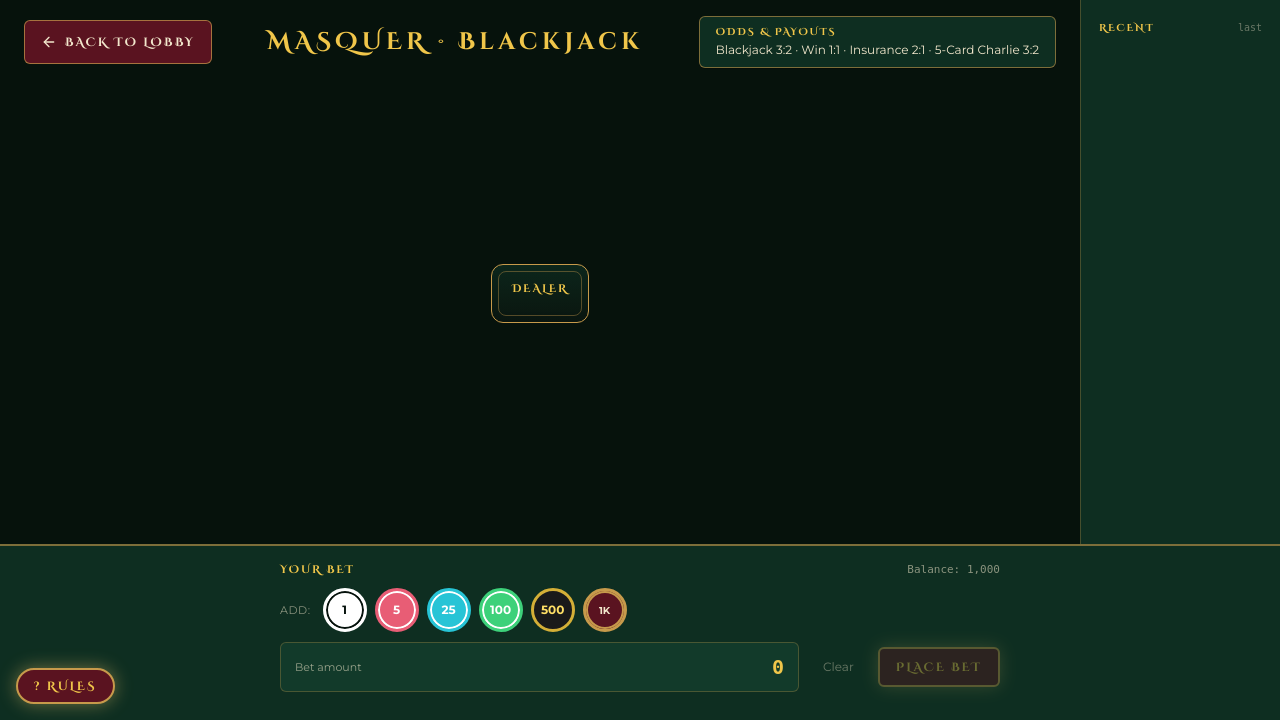
Test: BlackjackPage › declining insurance advances to action panel or settles
The image size is (1280, 720).
Click the button named "Add 25 chips to bet" at (449, 610), box [427,588,471,632]
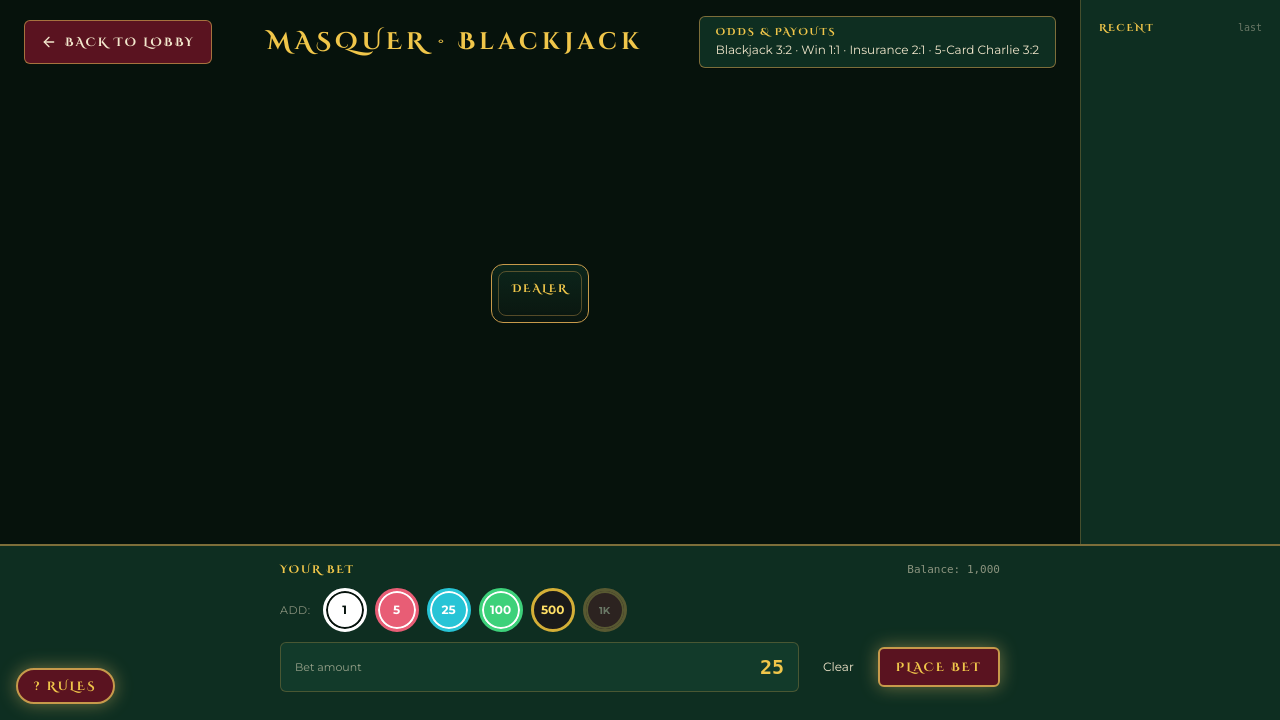
Click the button "PLACE BET" at (939, 667), box [878,647,1000,687]
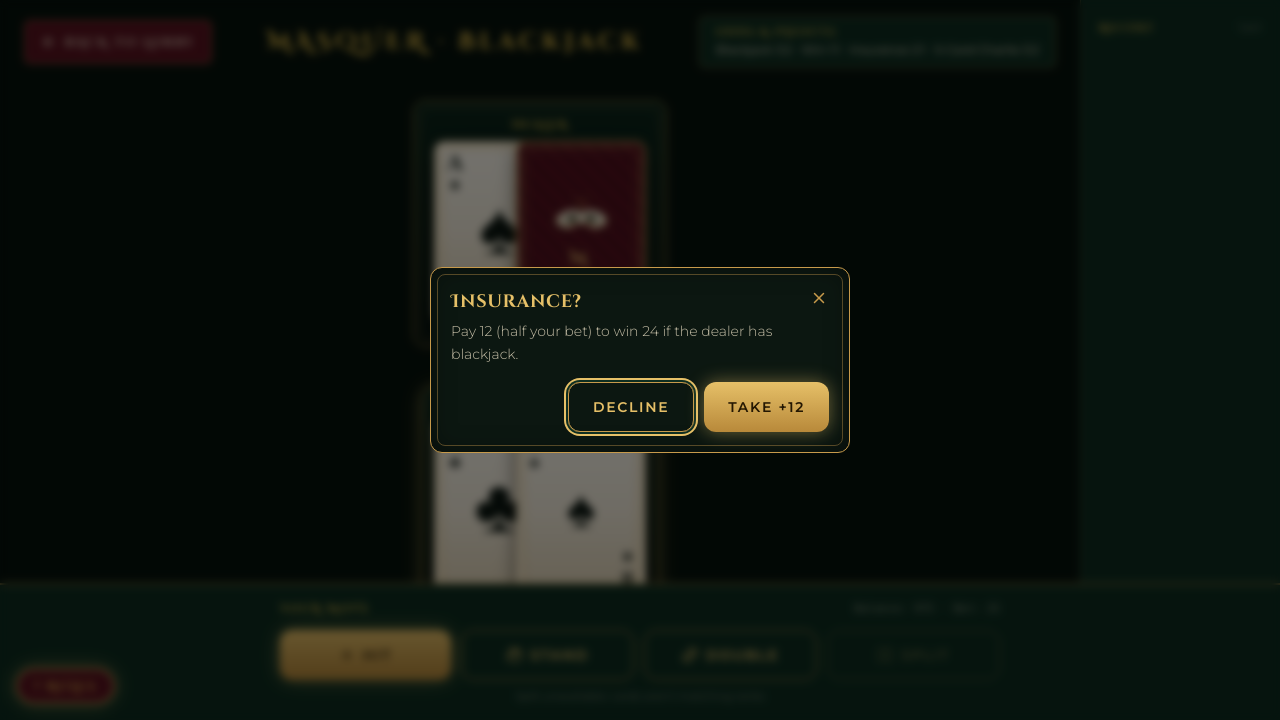
Click the button with aria-label "Decline insurance" at (631, 407), box [568,382,694,432]
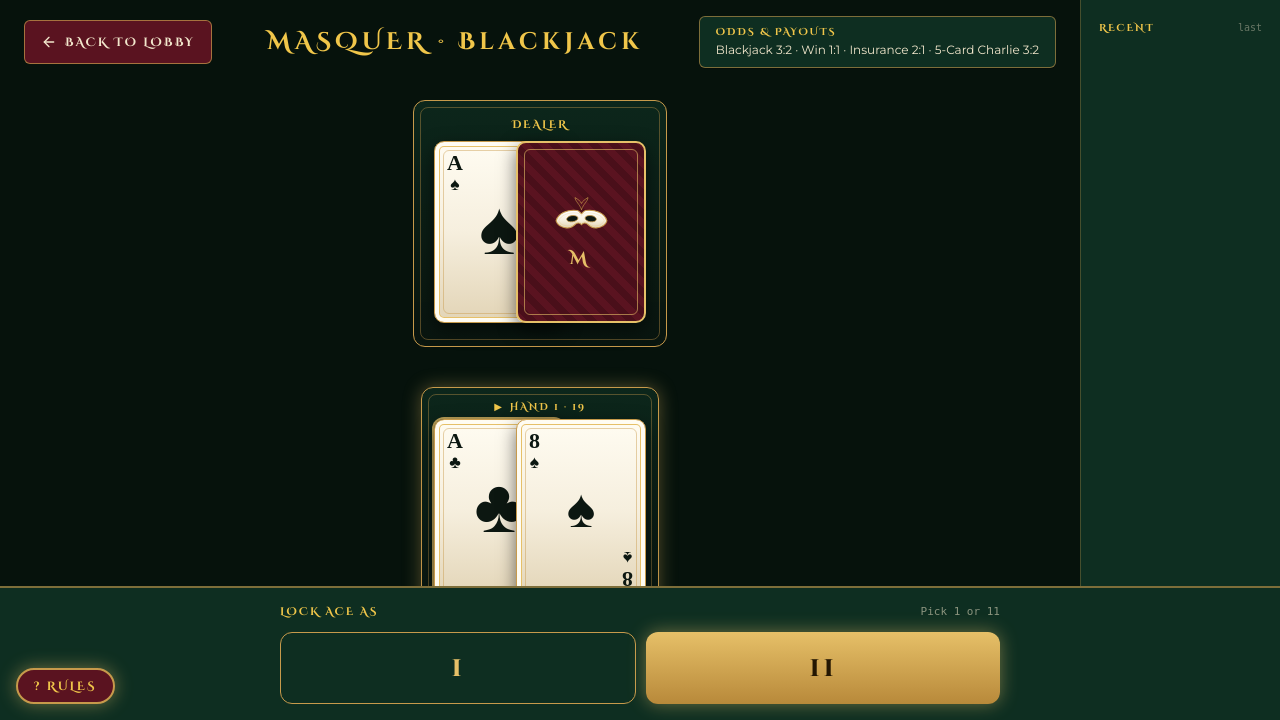
Click the button named "Lock this Ace as eleven" at (823, 668), box [646,632,1000,704]
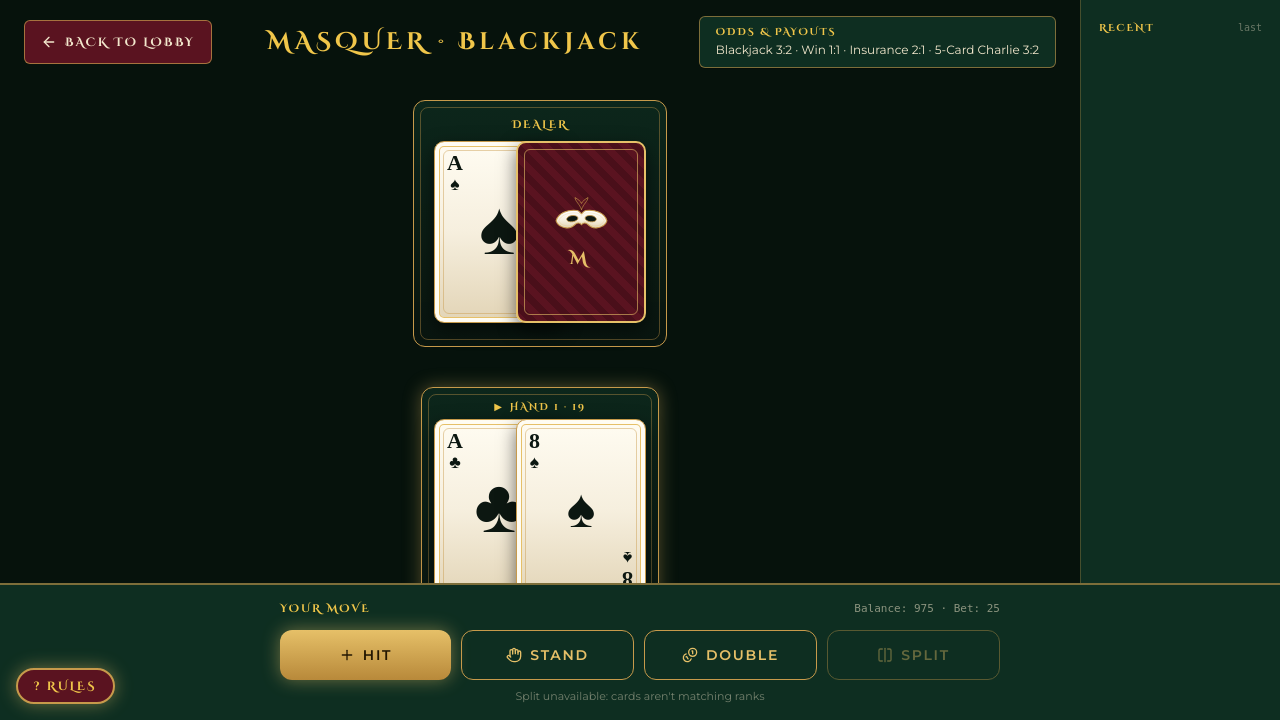
expect the button "Hit" is shown: met, box [280,630,451,680]
